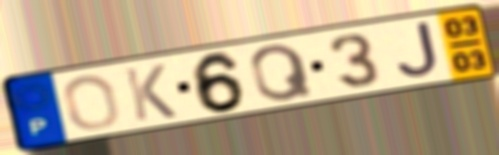3: (328, 32, 384, 89)
6: (190, 49, 252, 116)
J: (394, 19, 441, 80)
K: (121, 62, 180, 123)
O: (60, 73, 122, 132)
Q: (247, 41, 317, 104)
